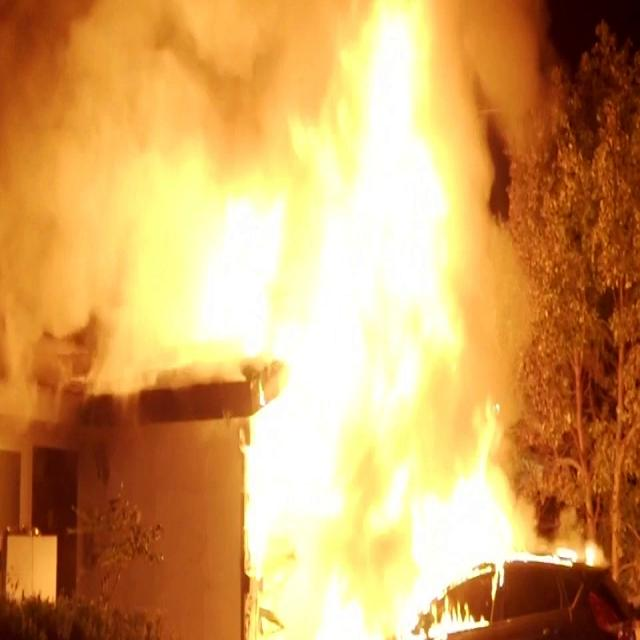fire: (210, 0, 452, 640), (137, 55, 275, 338), (459, 321, 529, 574)
